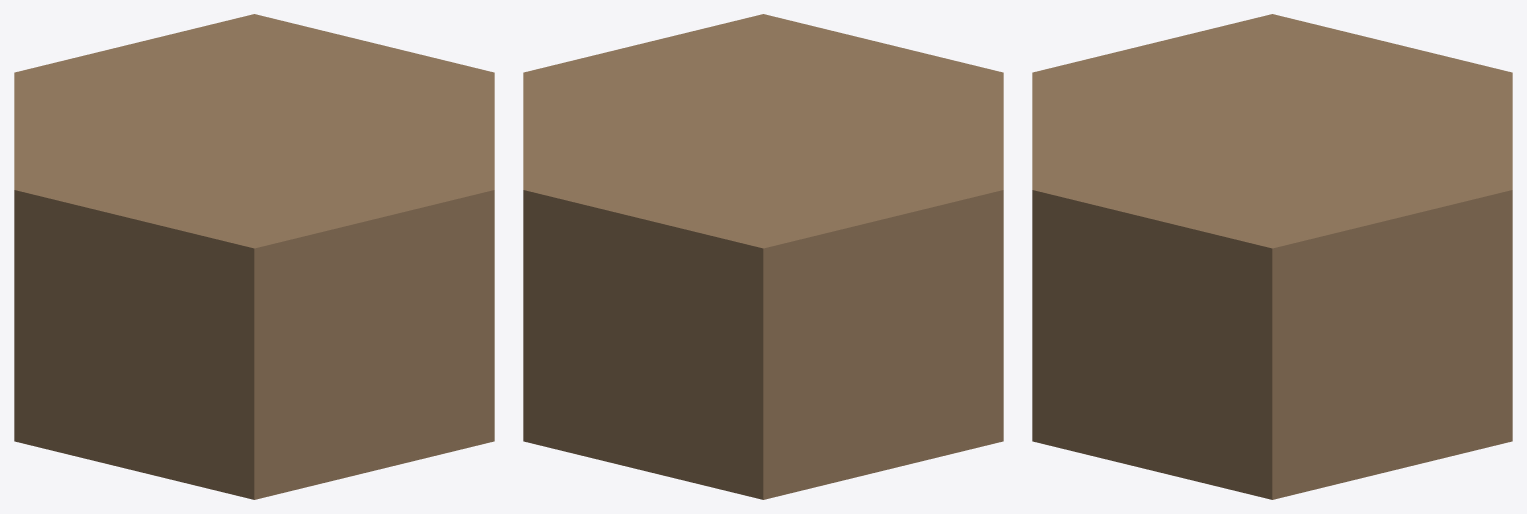
File: dirt_terrain.glb
The picture shows the model from 3 angles, left to right: view 1: azimuth 30°, elevation 25°; view 2: azimuth 150°, elevation 25°; view 3: azimuth 270°, elevation 25°; orthographic projection.
Visible parts, largest first — view 1: Cylinder; view 2: Cylinder; view 3: Cylinder.
Boxes of the visible parts, x1,y1,x2,y2 form: Cylinder: (14,14,494,499); Cylinder: (523,14,1003,499); Cylinder: (1032,14,1512,499).
Size of the model in its own units: 2 by 1 by 1.73.
